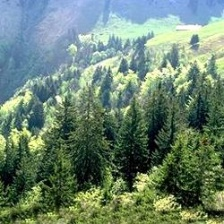neutral: (2, 1, 223, 223)
